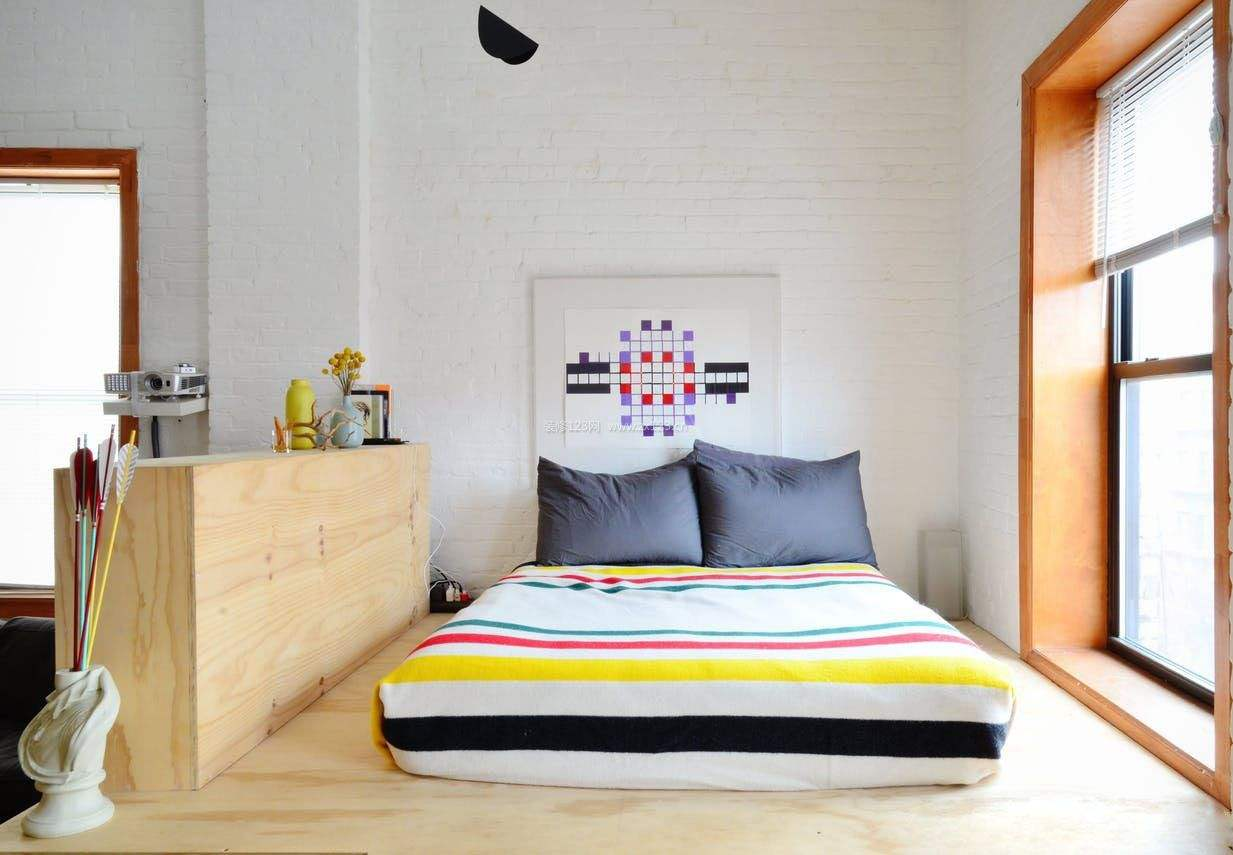床: (378, 548, 1008, 810)
枕头: (542, 446, 880, 564)
灯: (473, 8, 543, 73)
